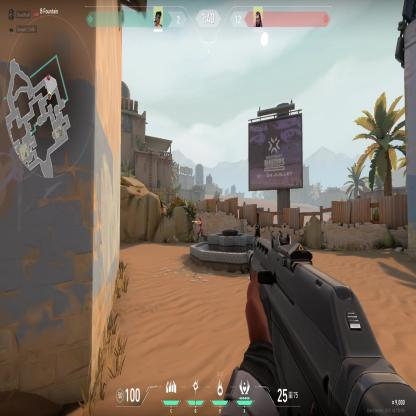enemy: (194, 217, 206, 242)
